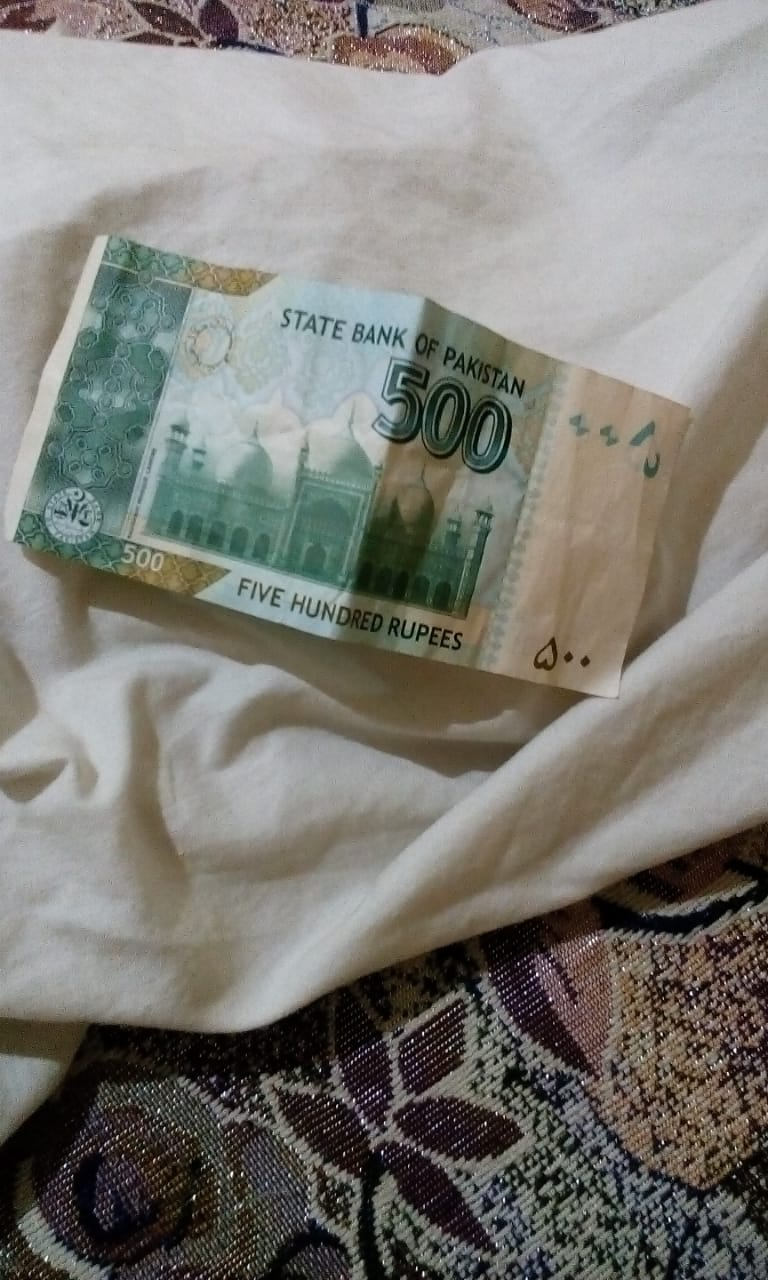500 rupee: (27, 158, 692, 749)
